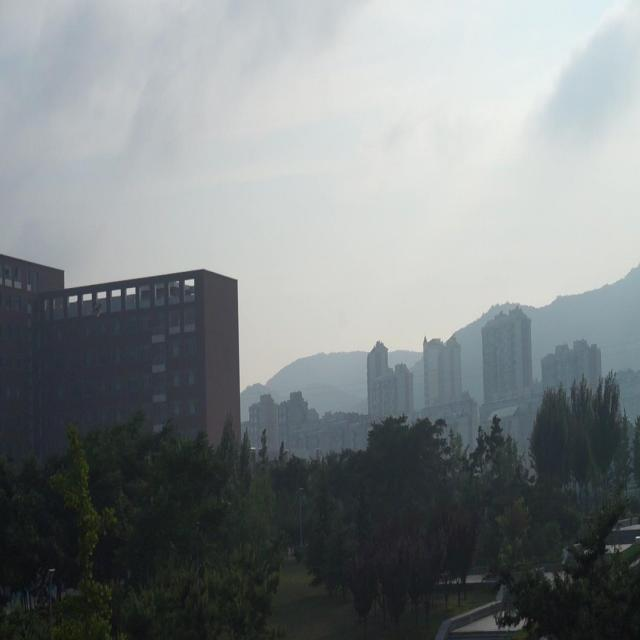UAV: (91, 302, 103, 317)
